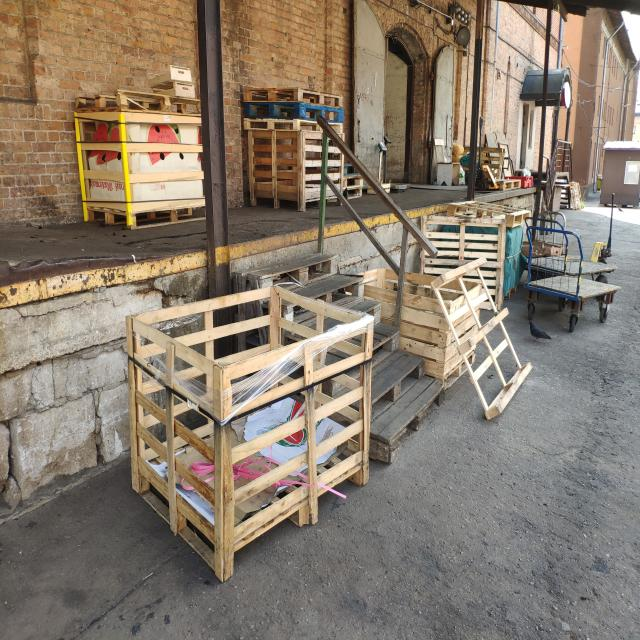entulho: (118, 408, 315, 581), (219, 325, 373, 480), (75, 90, 205, 230), (370, 270, 488, 394), (241, 85, 348, 211), (440, 258, 526, 414), (429, 208, 505, 316), (239, 288, 362, 350), (444, 225, 528, 292), (448, 198, 524, 226), (434, 138, 459, 185), (479, 146, 506, 186), (565, 178, 585, 209)
